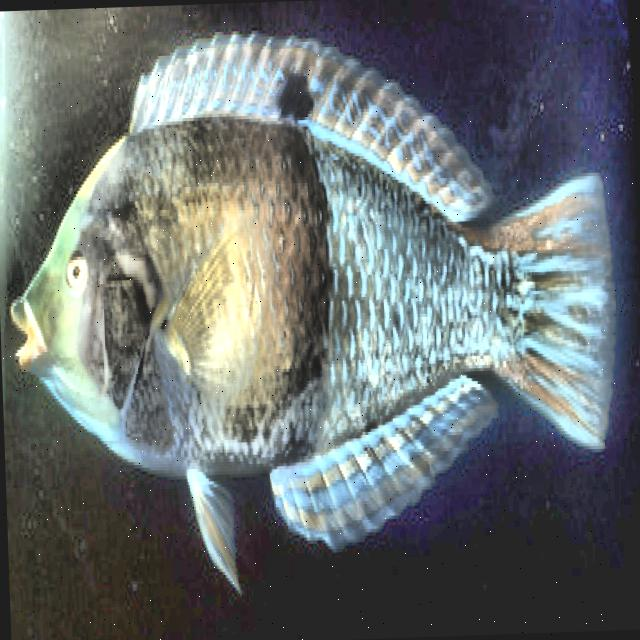fish: (0, 13, 626, 605)
